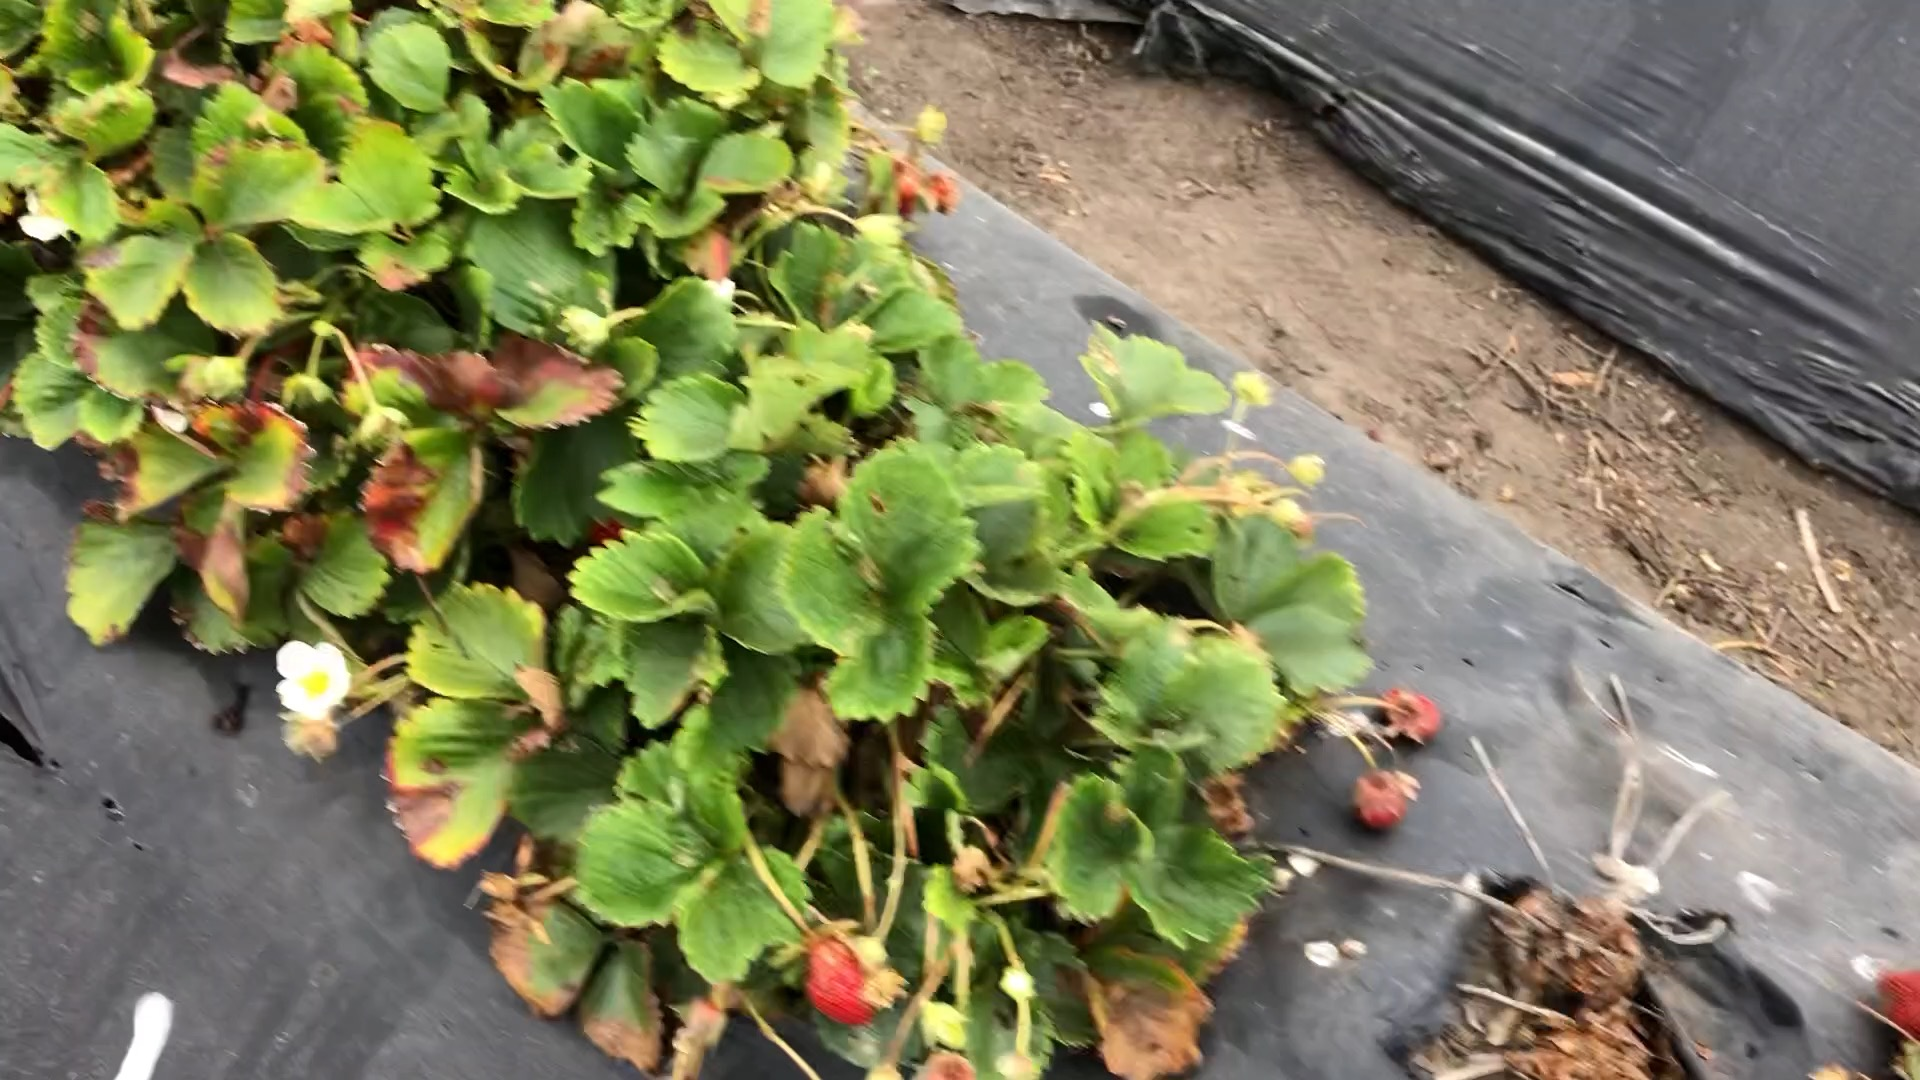ripe_strawberry: (803, 931, 878, 1030), (1382, 686, 1447, 742), (1356, 767, 1407, 837), (1876, 967, 1920, 1039)
